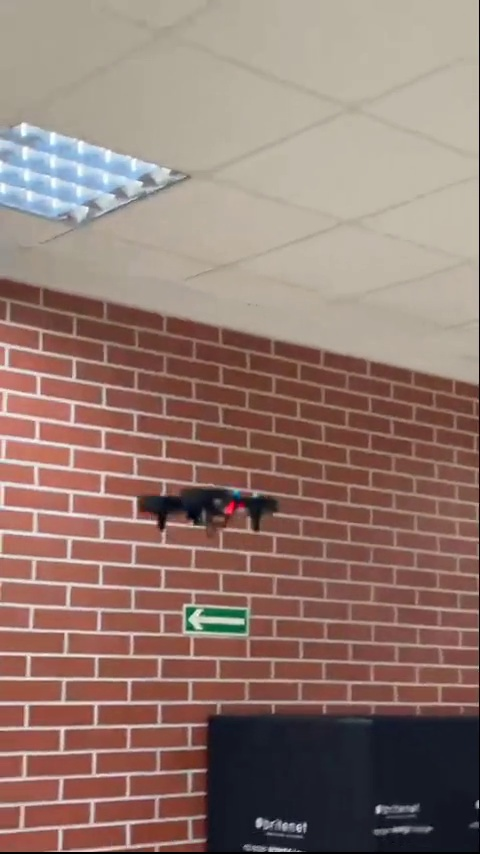drone: (140, 477, 290, 532)
